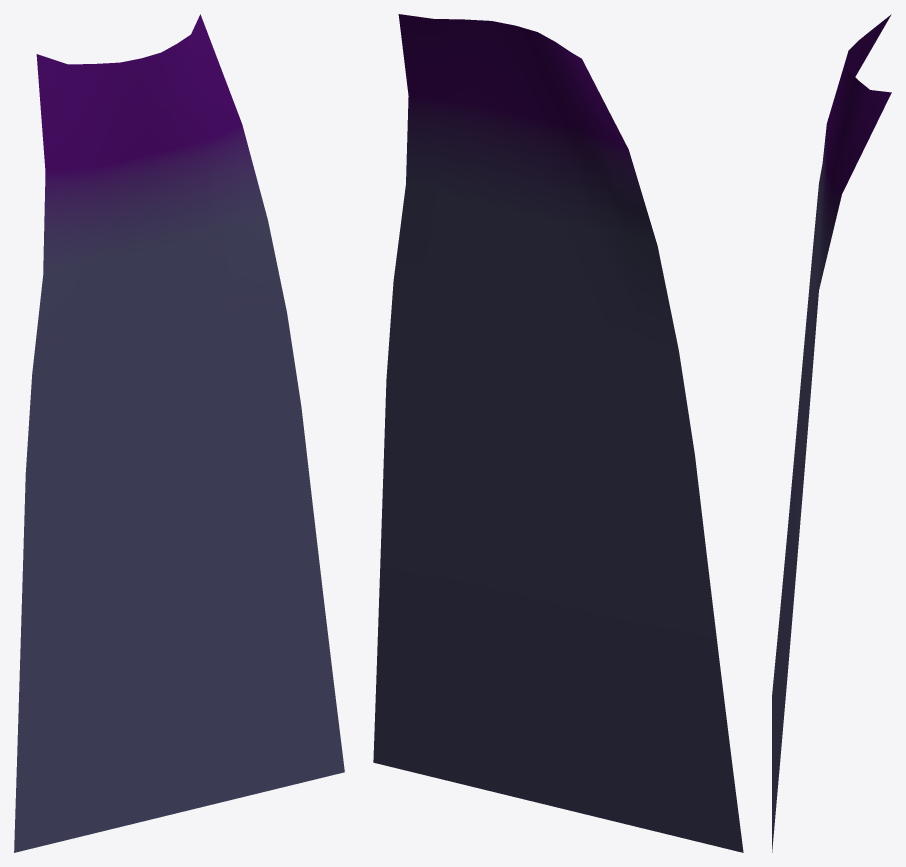
File: player_cape.gltf
3 views of the same model, side by side, from view 1: azimuth 30°, elevation 25°; view 2: azimuth 150°, elevation 25°; view 3: azimuth 270°, elevation 25° (orthographic). The views are drawn at different scales.
Visible parts, largest first — view 1: Plane; view 2: Plane; view 3: Plane.
Boxes of the visible parts, box(x1,y1,x2,y2) form: Plane: box(14, 14, 344, 852); Plane: box(373, 14, 743, 852); Plane: box(772, 14, 891, 852).
Size of the model in its own units: 0.6 by 1.27 by 0.1915.
